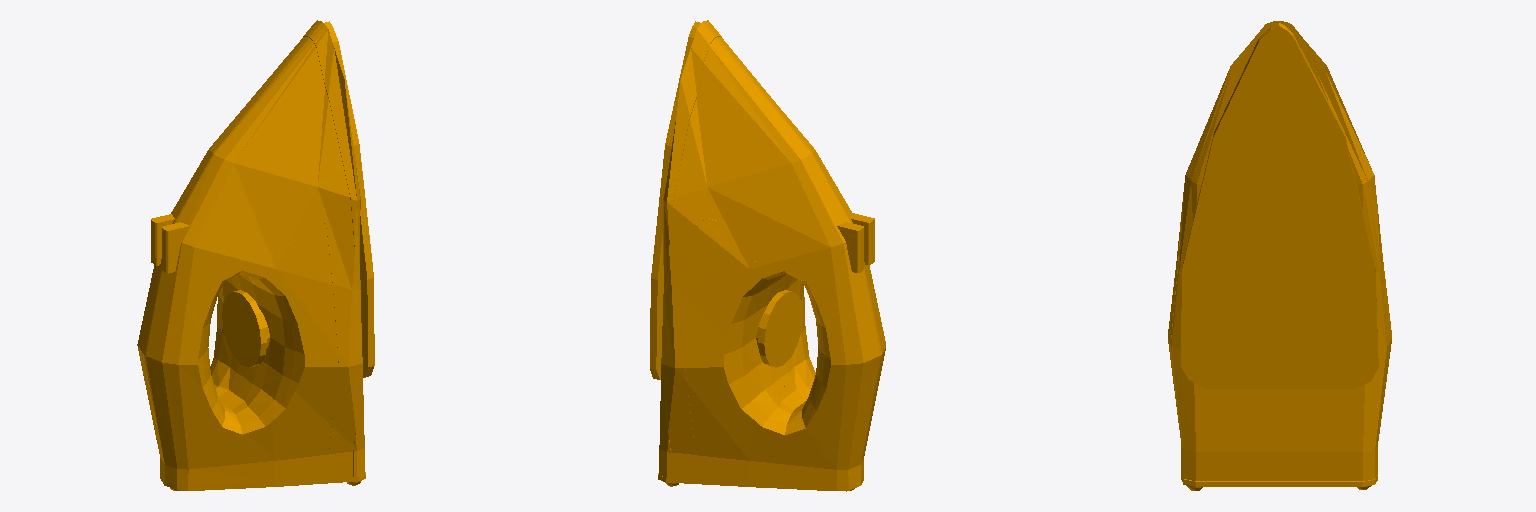
URDF robot description (none):
<robot name="none">
       <link name="none">
           <visual>
               <origin rpy="1.57 0 0" xyz="0 0 0" />
               <geometry>
                   <mesh filename="fer.obj" />
               </geometry>
           </visual>
          <collision>
              <geometry>
                  <box size="0.447437 1.000000 0.430179" />
              </geometry>
          </collision>

          <inertial>
            <mass value="0.0" />
            <inertia ixx="0.0" ixy="0.0" ixz="0.0" iyy="0.0" iyz="0.0" izz="0.0" />
          </inertial>
      </link>
  </robot>

--- Facts derived from the render (not from the file) ---
Views: 3 orthographic renders of the robot side by side, from view 1: azimuth 30°, elevation 25°; view 2: azimuth 150°, elevation 25°; view 3: azimuth 270°, elevation 25°.
Model none with 1 links and 0 joints (none), rooted at none, posed all joints at 0.
Visible links, largest first — view 1: none; view 2: none; view 3: none.
Boxes of the visible links, box(x1,y1,x2,y2) form: none: box(137, 20, 374, 490); none: box(650, 20, 885, 491); none: box(1168, 21, 1391, 490).
Bounding box of the posed robot: 0.4474 × 0.4302 × 0.9999 m (x, y, z).
Meshes: 1 distinct files referenced, 1 mesh visuals loaded (1 OBJ).
